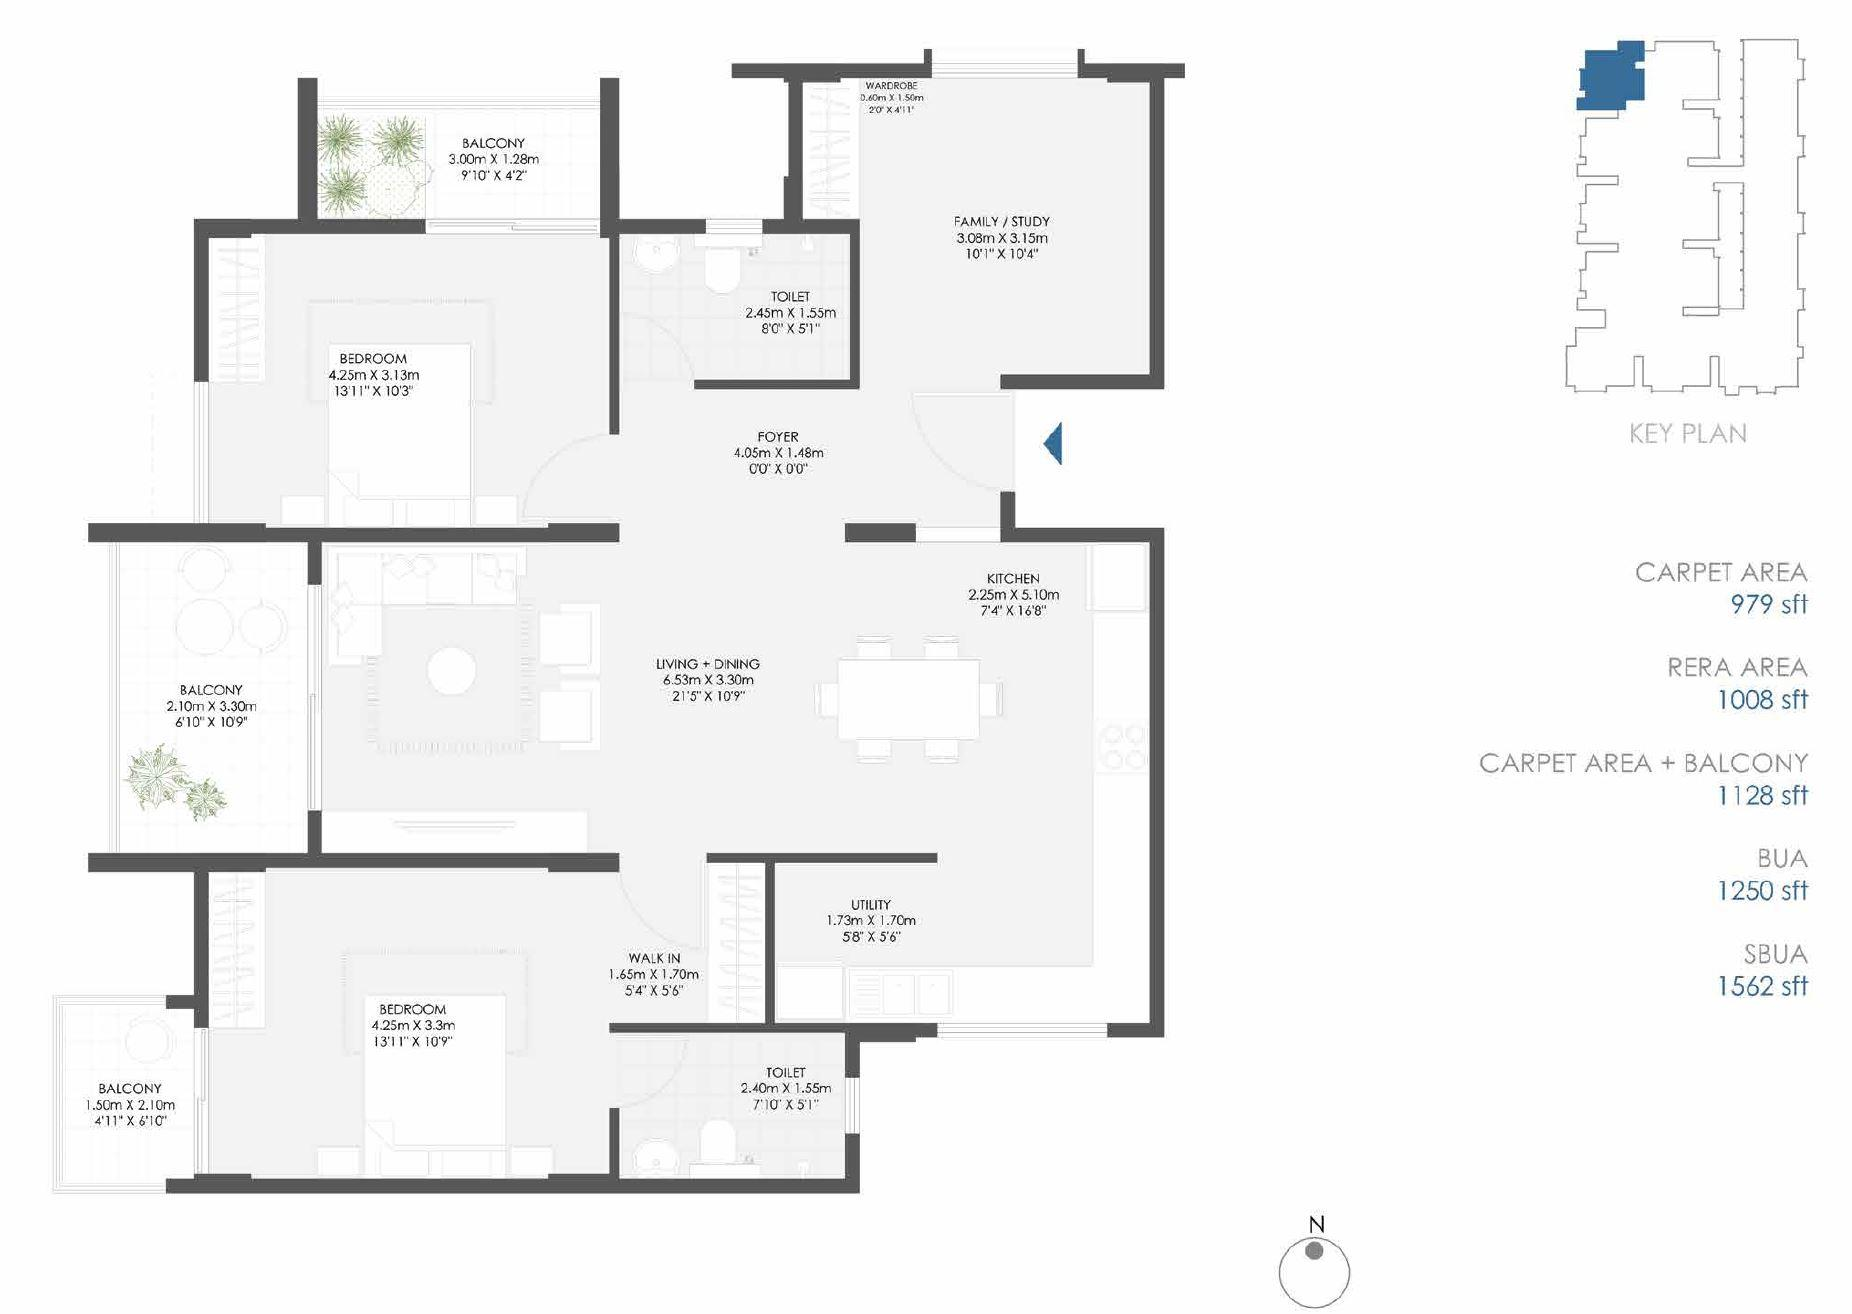Balcony: (114, 545, 314, 860), (316, 104, 605, 226), (58, 1004, 198, 1190)
Bed: (364, 990, 506, 1177), (333, 346, 472, 528)
Bedroom: (205, 870, 608, 1177), (205, 230, 613, 523)
Dining Room: (687, 540, 1018, 843)
Dining table: (807, 629, 1012, 775)
Foyer: (621, 387, 1009, 528)
Kitchen: (952, 539, 1144, 1025)
Living Room: (321, 546, 669, 850)
Sofa: (325, 547, 526, 604), (328, 552, 388, 670), (540, 680, 603, 747), (534, 604, 596, 673)
Wardrobe: (208, 226, 269, 378), (712, 865, 768, 1028), (206, 867, 260, 1030), (804, 77, 861, 219)
commode: (696, 1118, 736, 1162), (711, 256, 748, 299)
door: (904, 383, 1016, 493), (596, 1018, 702, 1122), (290, 572, 335, 811), (623, 865, 716, 968), (524, 434, 618, 528), (614, 299, 706, 392), (196, 1032, 217, 1175)
fridge: (1087, 540, 1148, 610)
kitchen-slab: (1087, 610, 1148, 1020), (849, 968, 1150, 1025)
sink: (850, 974, 947, 1025), (635, 230, 682, 270), (635, 1143, 677, 1172)
stove: (1086, 710, 1154, 779)
study: (856, 75, 1156, 384)
toilet: (618, 229, 856, 378), (615, 1030, 851, 1177)
tv: (394, 808, 522, 840)
utility: (775, 859, 947, 1022)
walkin: (605, 862, 766, 1022)
washing-machine: (775, 967, 844, 1021)
